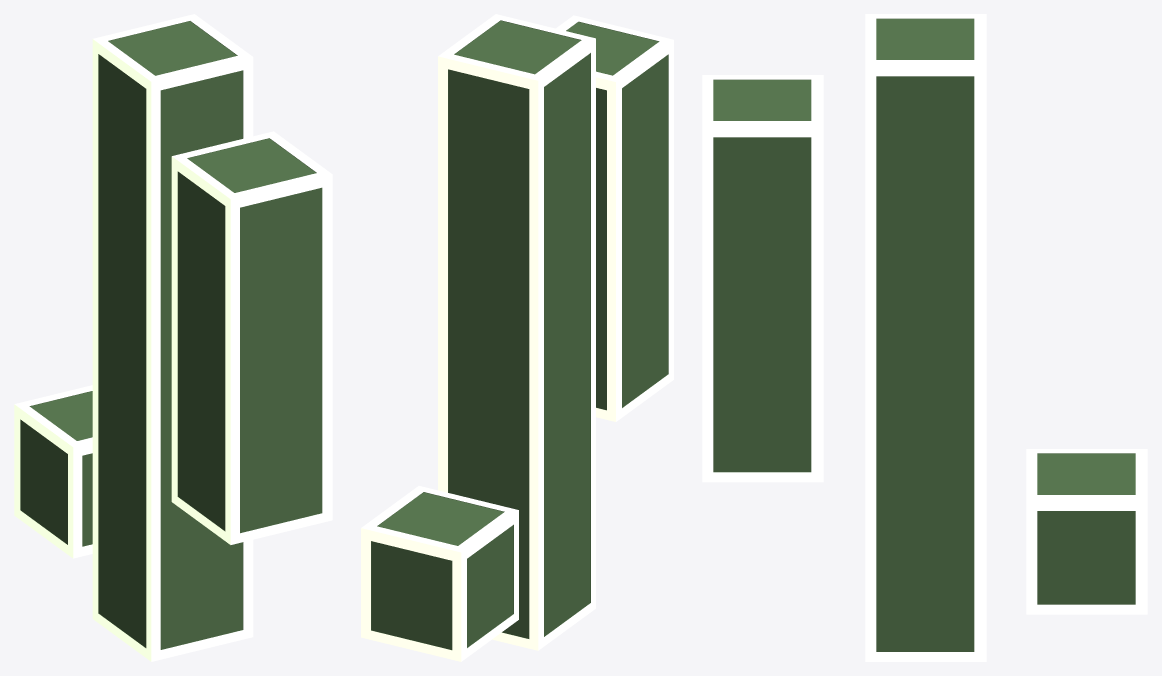
File: someDeco.fbx
The picture shows the model from 3 angles, left to right: view 1: azimuth 30°, elevation 25°; view 2: azimuth 150°, elevation 25°; view 3: azimuth 270°, elevation 25°; orthographic projection. The views are drawn at different scales.
Visible parts, largest first — view 1: Cube.001, Cube, Cube.002; view 2: Cube.001, Cube, Cube.002; view 3: Cube.001, Cube, Cube.002.
Boxes of the visible parts, x1,y1,x2,y2 form: Cube.001: (92, 14, 253, 661); Cube: (171, 131, 332, 544); Cube.002: (14, 385, 92, 558); Cube.001: (438, 14, 595, 650); Cube: (556, 15, 673, 421); Cube.002: (361, 486, 518, 661); Cube.001: (865, 14, 986, 661); Cube: (702, 75, 823, 482); Cube.002: (1026, 449, 1147, 614).
Bounding box in the file's own units: 200 × 1087 × 735.
